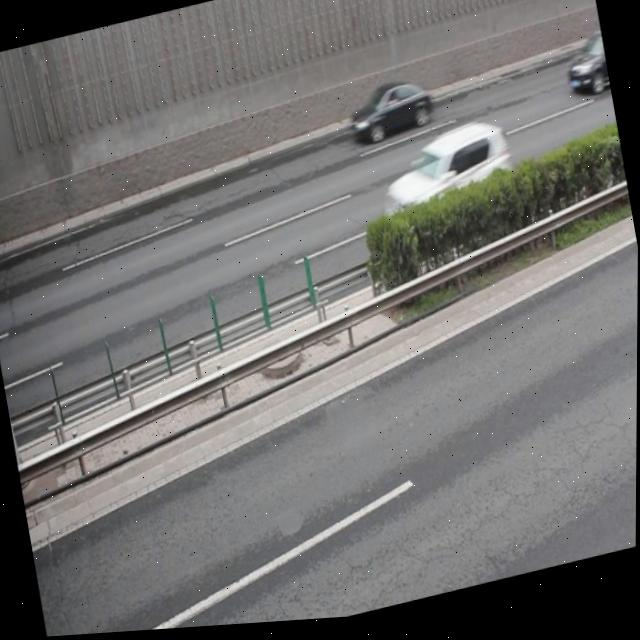car: (373, 121, 518, 250), (344, 77, 438, 152), (558, 36, 611, 107)
